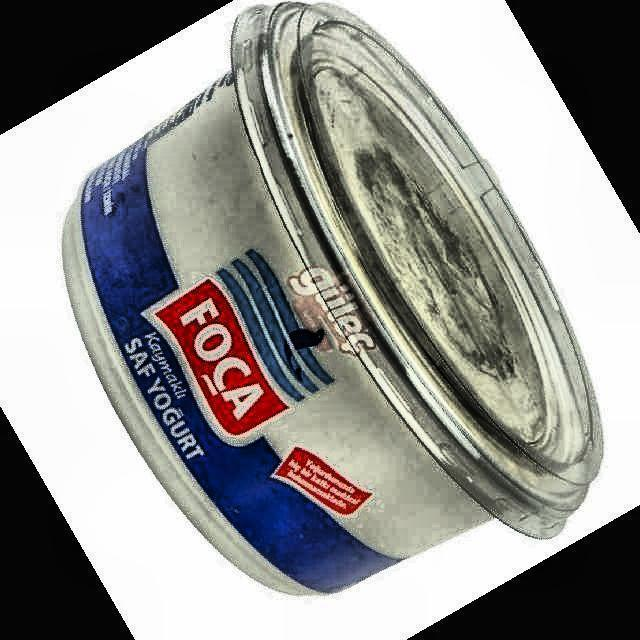plastic: (62, 2, 602, 594)
